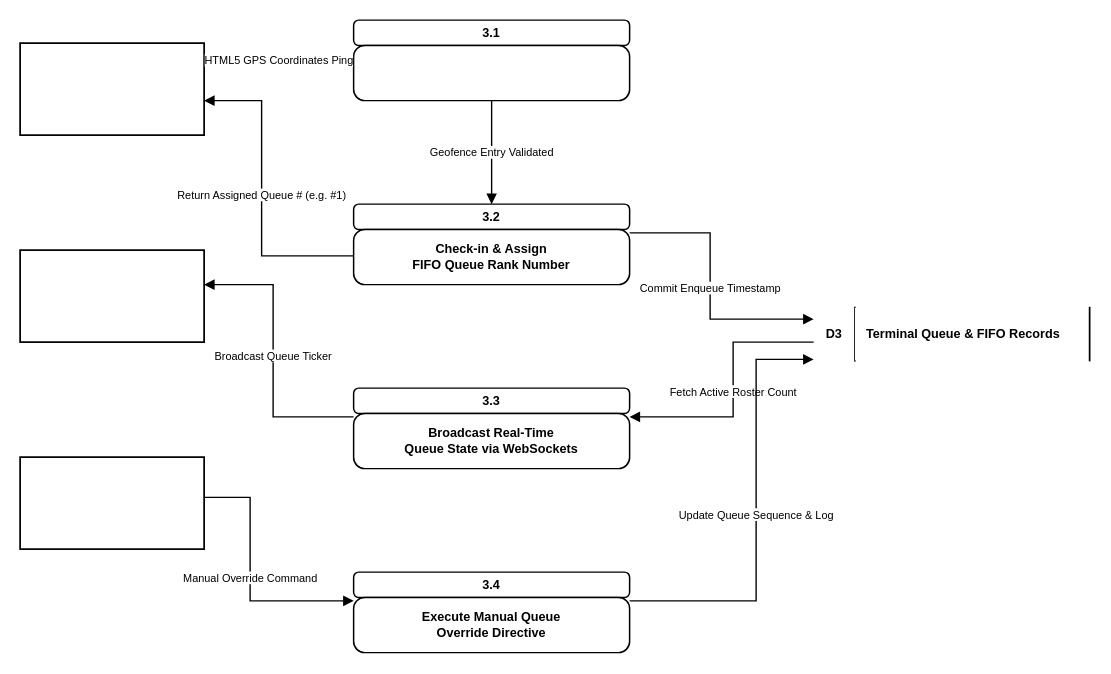
This 1111x674 diagram has some shape labels left out. Each missing label, with the centre of its shape:
"COMMUTER / PASSENGER" belongs at point 111,295.
"TODA ADMINISTRATOR" belongs at point 111,502.
"TRICYCLE DRIVER" belongs at point 111,88.
"Validate GPS Proximity <= 35m Terminal Geofence" belongs at point 491,72.
